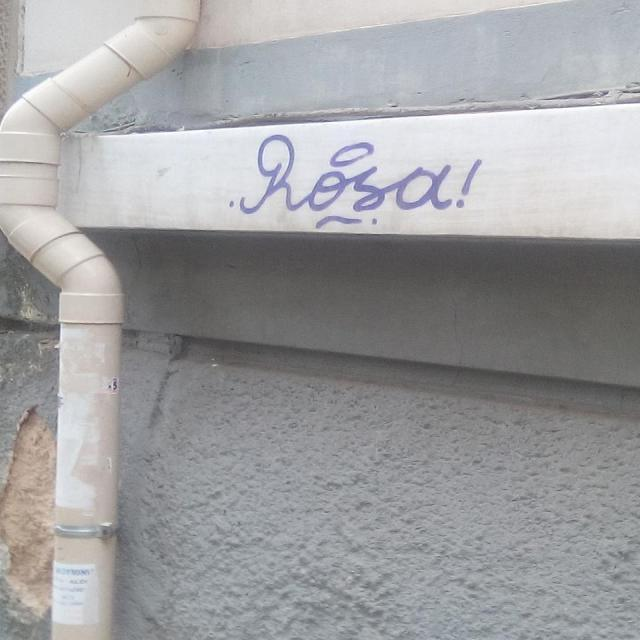nonspitting: (224, 135, 483, 229)
